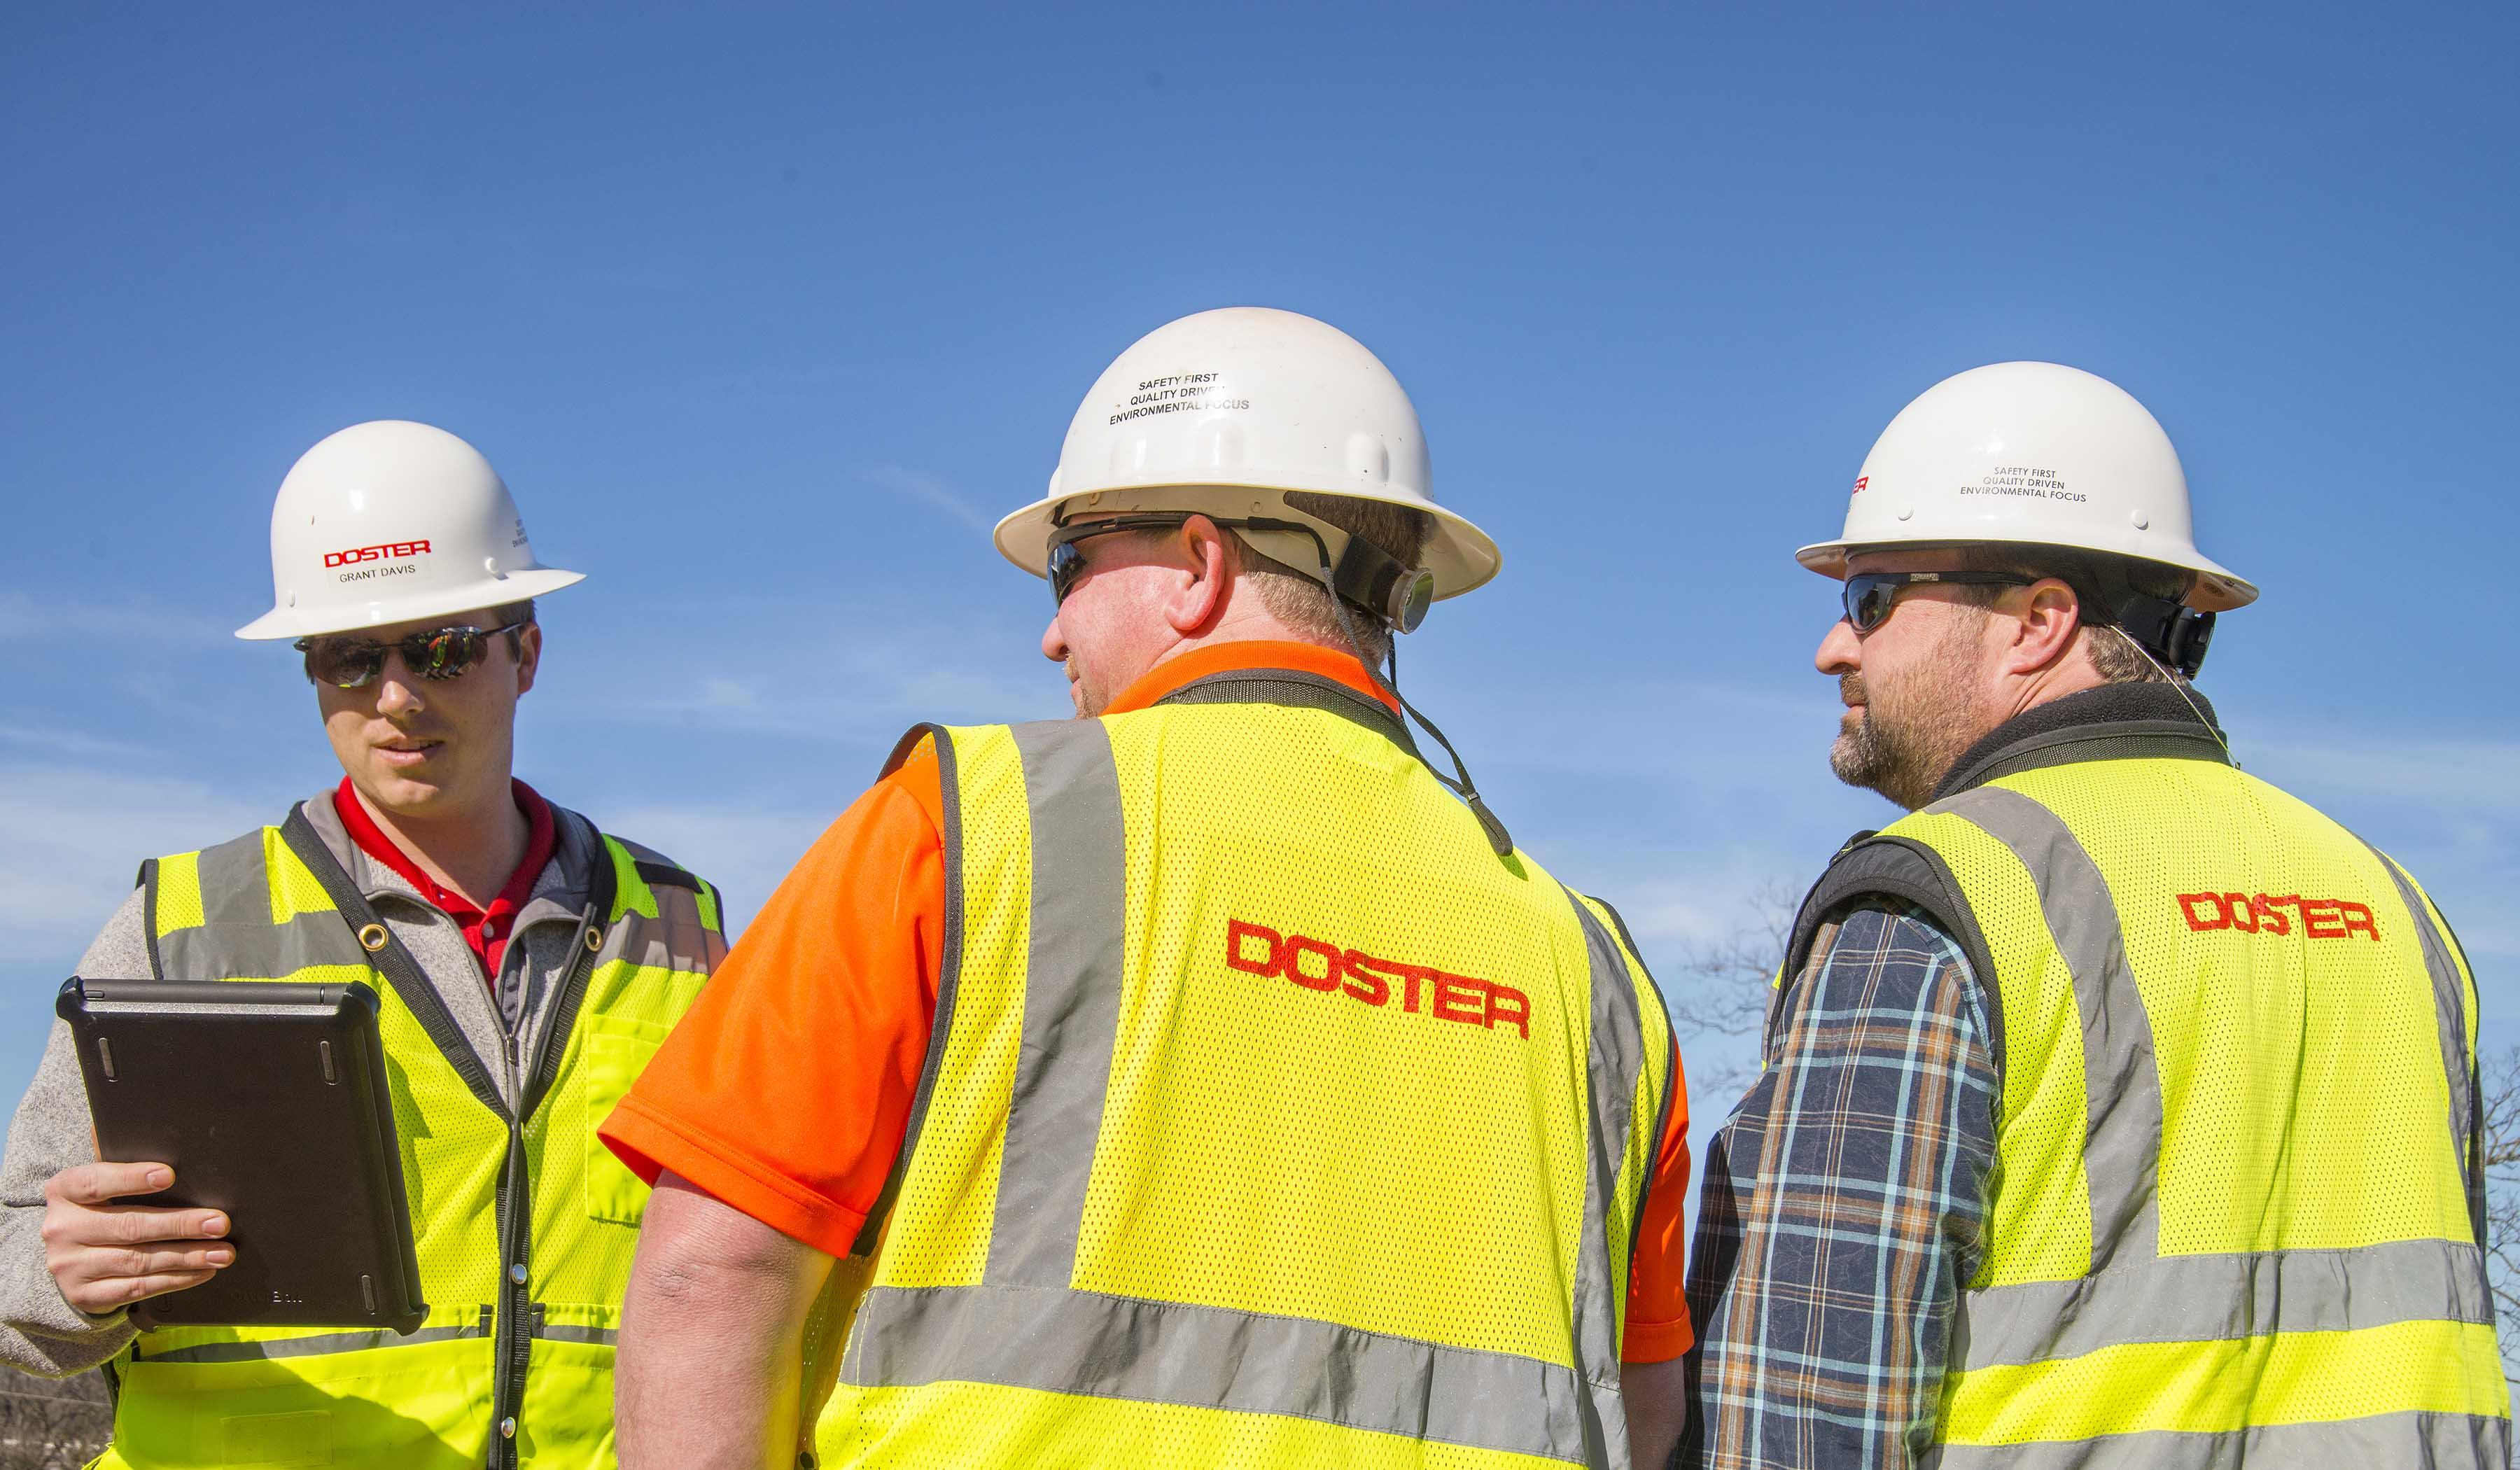helmet: (997, 315, 1510, 609), (1811, 355, 2252, 614), (252, 423, 577, 637)
